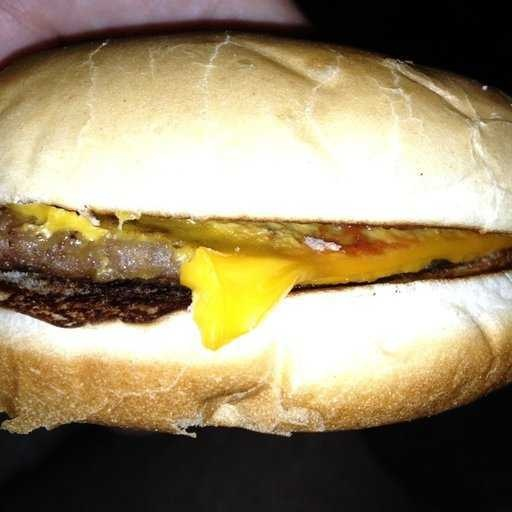hamburger: (1, 50, 504, 442)
